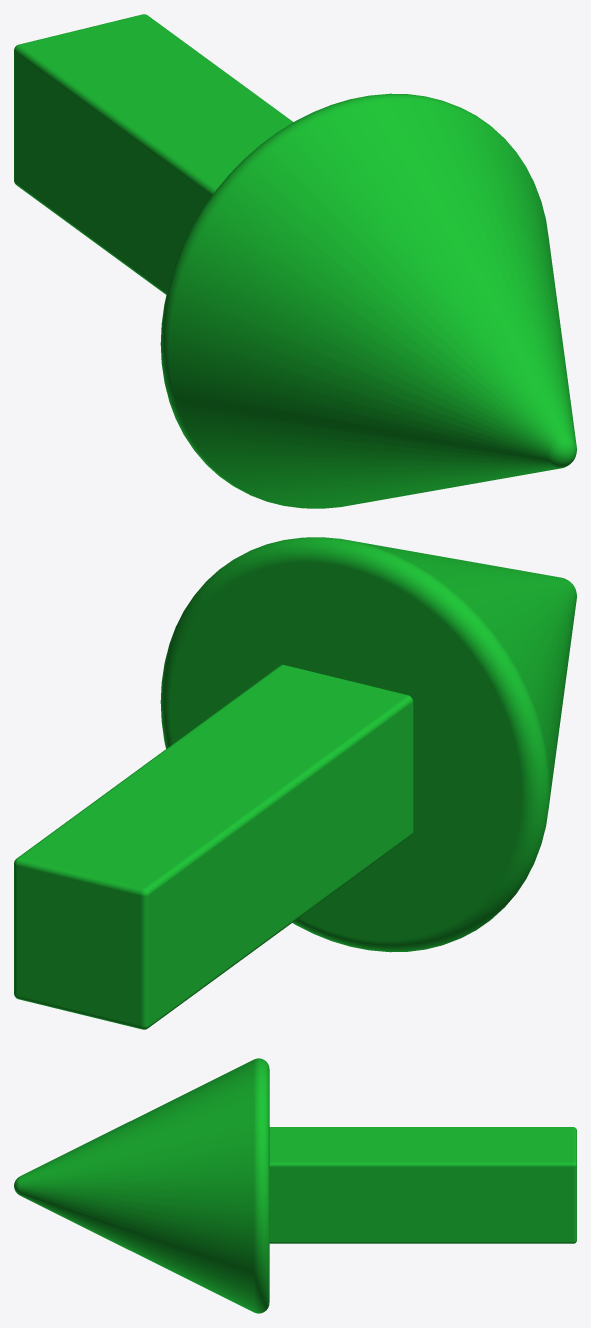
The model's file is Arrow.fbx.
3 renders of one model, top to bottom at view 1: azimuth 30°, elevation 25°; view 2: azimuth 150°, elevation 25°; view 3: azimuth 270°, elevation 25°, orthographic. The views are drawn at different scales.
Parts seen in each view (by area): view 1: Cone, Box; view 2: Cone, Box; view 3: Cone, Box.
Part boxes in pixels (bbox=[...]): Cone: bbox=[160, 93, 576, 508]; Box: bbox=[14, 14, 293, 294]; Cone: bbox=[160, 537, 576, 952]; Box: bbox=[14, 664, 413, 1029]; Cone: bbox=[14, 1058, 269, 1313]; Box: bbox=[269, 1127, 576, 1243].
Bounding box in the file's own units: 285 × 628 × 285.
